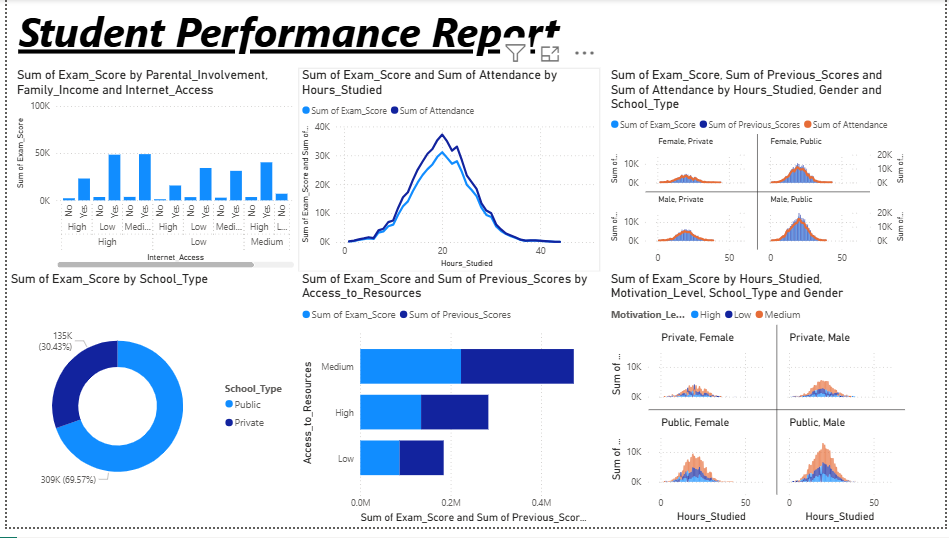

Layout of this report page (visuals, bound fields, positions):
{"tool":"powerbi","page":{"name":"Page 1","canvas":[1280,720],"ordinal":0},"visuals":[{"type":"textbox","box":[9.6,0,773.9,93.3],"z":0},{"type":"clusteredColumnChart","fields":{"Y":["Sum(StudentPerformanceFactors.Exam_Score)"],"Category":["StudentPerformanceFactors.Parental_Involvement","StudentPerformanceFactors.Family_Income","StudentPerformanceFactors.Internet_Access"]},"box":[9.1,93.6,388,277.8],"z":1000},{"type":"lineChart","fields":{"Category":["StudentPerformanceFactors.Hours_Studied"],"Y":["Sum(StudentPerformanceFactors.Exam_Score)","Sum(StudentPerformanceFactors.Attendance)"]},"box":[397.1,93.6,412.2,277.8],"z":2000},{"type":"donutChart","fields":{"Category":["StudentPerformanceFactors.School_Type"],"Y":["Sum(StudentPerformanceFactors.Exam_Score)"]},"box":[0,371.4,397.1,348.8],"z":3000},{"type":"barChart","fields":{"Category":["StudentPerformanceFactors.Access_to_Resources"],"Y":["Sum(StudentPerformanceFactors.Exam_Score)","Sum(StudentPerformanceFactors.Previous_Scores)"]},"box":[397,372,412,348],"z":4000},{"type":"ribbonChart","fields":{"Category":["StudentPerformanceFactors.Hours_Studied"],"Y":["Sum(StudentPerformanceFactors.Exam_Score)"],"Series":["StudentPerformanceFactors.Motivation_Level"],"Rows":["StudentPerformanceFactors.School_Type","StudentPerformanceFactors.Gender"]},"box":[819,372,412,348],"z":5000},{"type":"lineClusteredColumnComboChart","fields":{"Category":["StudentPerformanceFactors.Hours_Studied"],"Y":["Sum(StudentPerformanceFactors.Exam_Score)","Sum(StudentPerformanceFactors.Previous_Scores)"],"Y2":["Sum(StudentPerformanceFactors.Attendance)"],"Rows":["StudentPerformanceFactors.Gender","StudentPerformanceFactors.School_Type"]},"box":[819,94,412,278],"z":6000}]}

Visuals, with their boxes in screenshot pixels (x1, y1, x2, y2), scaled from the page's 1280x720 canvas onto the 949x538 screenshot:
textbox: (left=7, top=0, right=581, bottom=70)
clusteredColumnChart - Sum(StudentPerformanceFactors.Exam_Score) x StudentPerformanceFactors.Parental_Involvement: (left=7, top=70, right=294, bottom=278)
lineChart - StudentPerformanceFactors.Hours_Studied x Sum(StudentPerformanceFactors.Exam_Score): (left=294, top=70, right=600, bottom=278)
donutChart - StudentPerformanceFactors.School_Type x Sum(StudentPerformanceFactors.Exam_Score): (left=0, top=278, right=294, bottom=537)
barChart - StudentPerformanceFactors.Access_to_Resources x Sum(StudentPerformanceFactors.Exam_Score): (left=294, top=278, right=600, bottom=537)
ribbonChart - StudentPerformanceFactors.Hours_Studied x Sum(StudentPerformanceFactors.Exam_Score): (left=607, top=278, right=913, bottom=537)
lineClusteredColumnComboChart - StudentPerformanceFactors.Hours_Studied x Sum(StudentPerformanceFactors.Exam_Score): (left=607, top=70, right=913, bottom=278)
